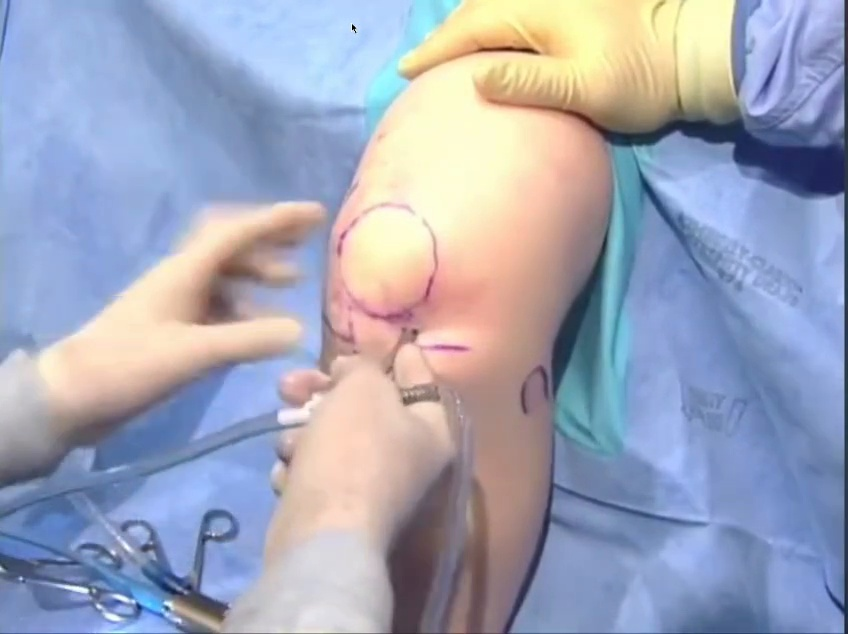arthroscope: (424, 39, 729, 634), (23, 144, 402, 500)
probe: (610, 0, 848, 165), (627, 156, 796, 328)
